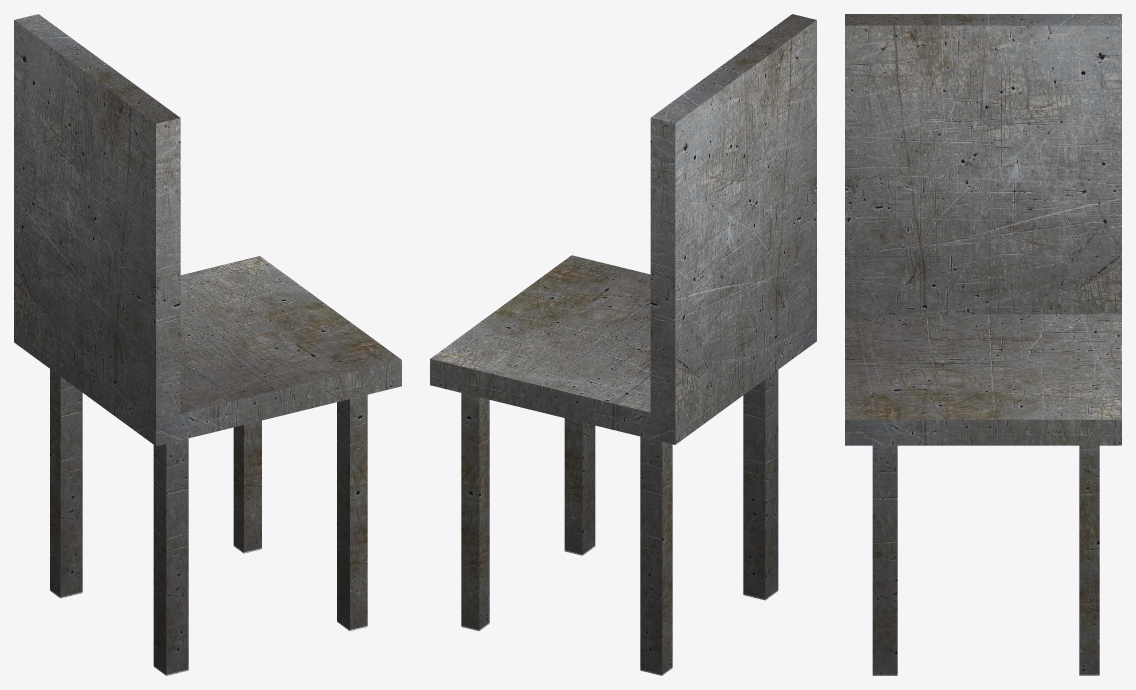
File: chairModel.fbx
3 renders of one model, left to right at view 1: azimuth 30°, elevation 25°; view 2: azimuth 150°, elevation 25°; view 3: azimuth 270°, elevation 25°, orthographic. The views are drawn at different scales.
Visible parts, largest first — view 1: Cube; view 2: Cube; view 3: Cube.
Part boxes in pixels (box(x1,y1,x2,y2)): Cube: box(14, 14, 401, 675); Cube: box(430, 14, 816, 675); Cube: box(845, 14, 1121, 675).
Size of the model in its own units: 200 by 442 by 200.
